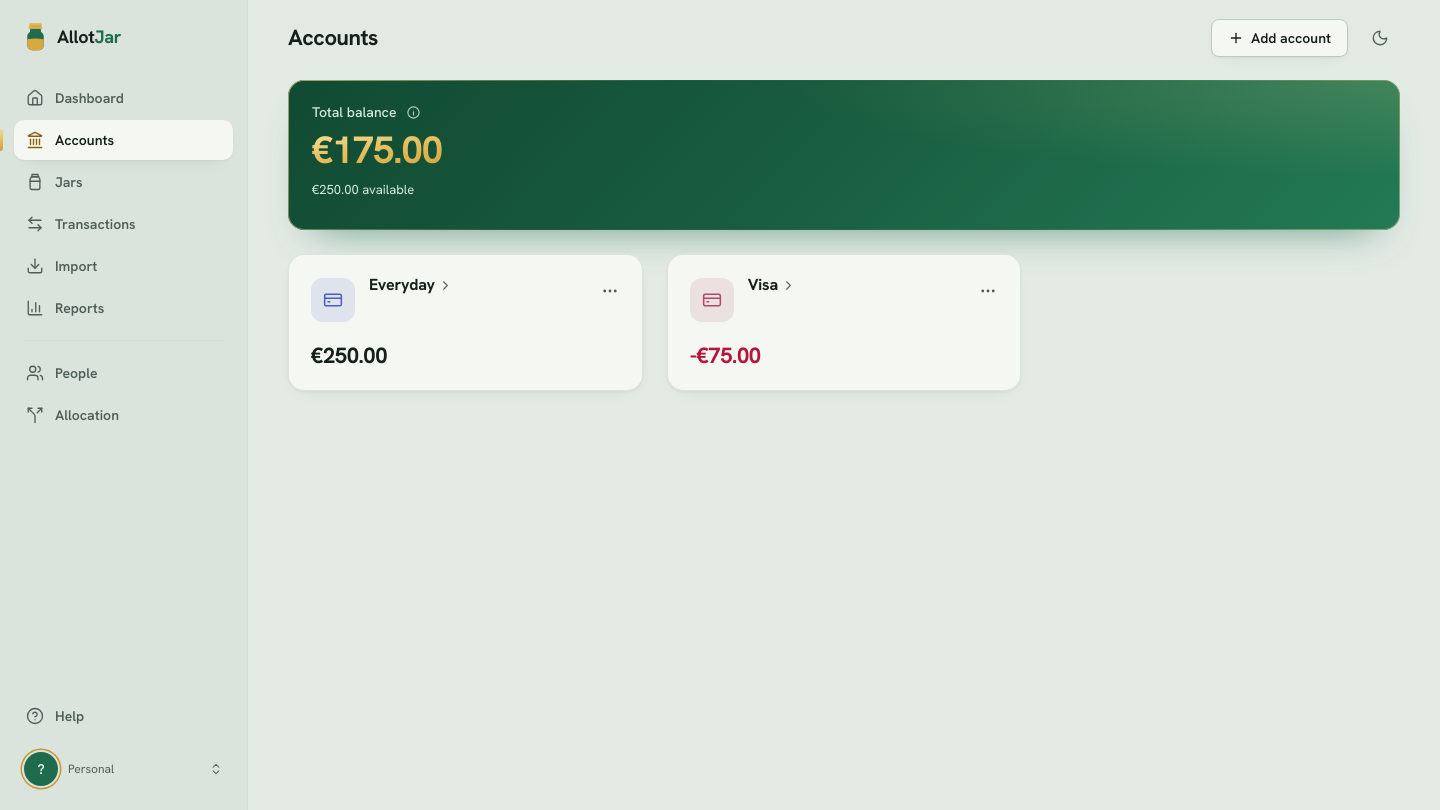
Test: AccountsPage › deletes an account after confirming
Click the button named "Everyday: more actions" at (610, 291), box [590,271,630,311]
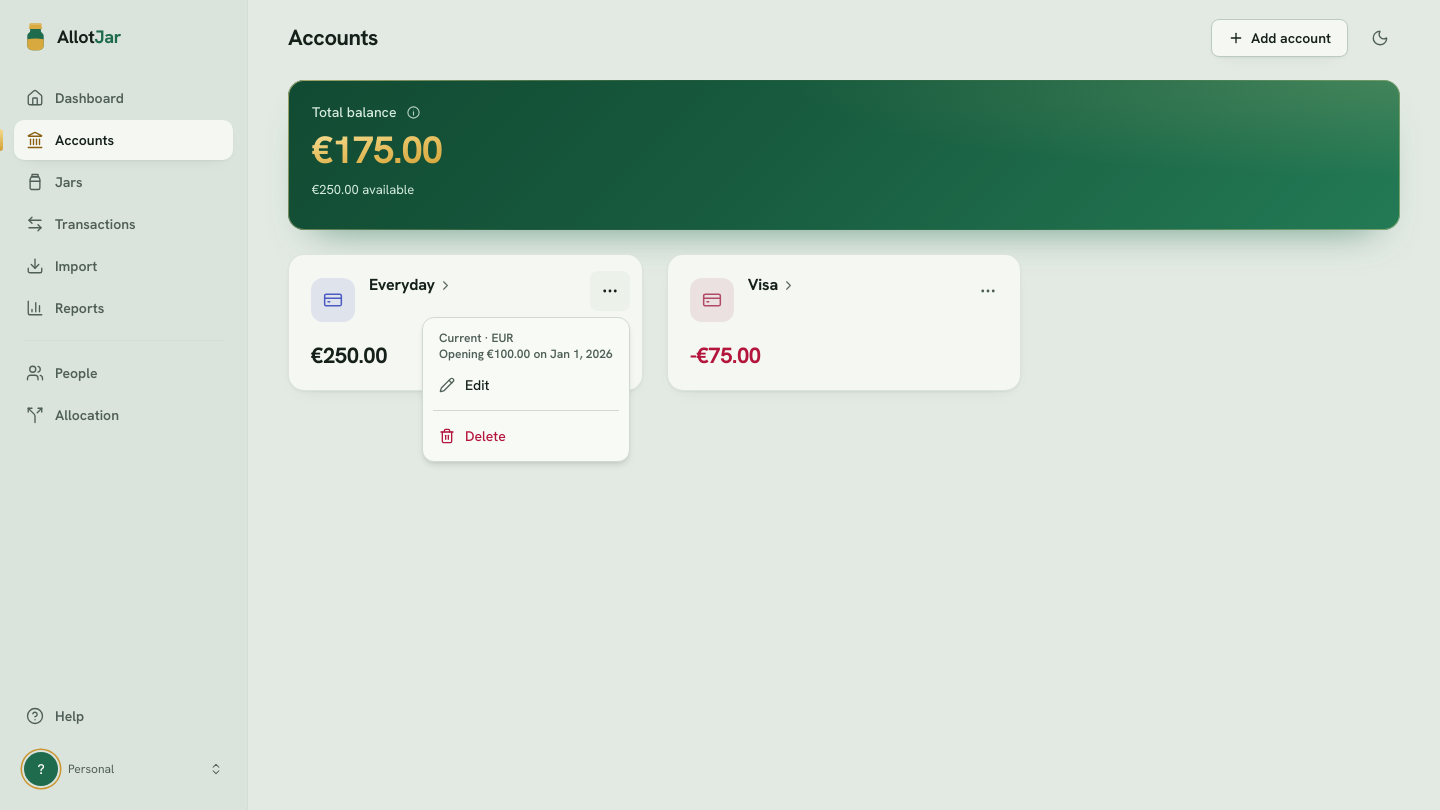
Click the menu item with aria-label "Delete Everyday" at (472, 436), box [439,427,506,445]
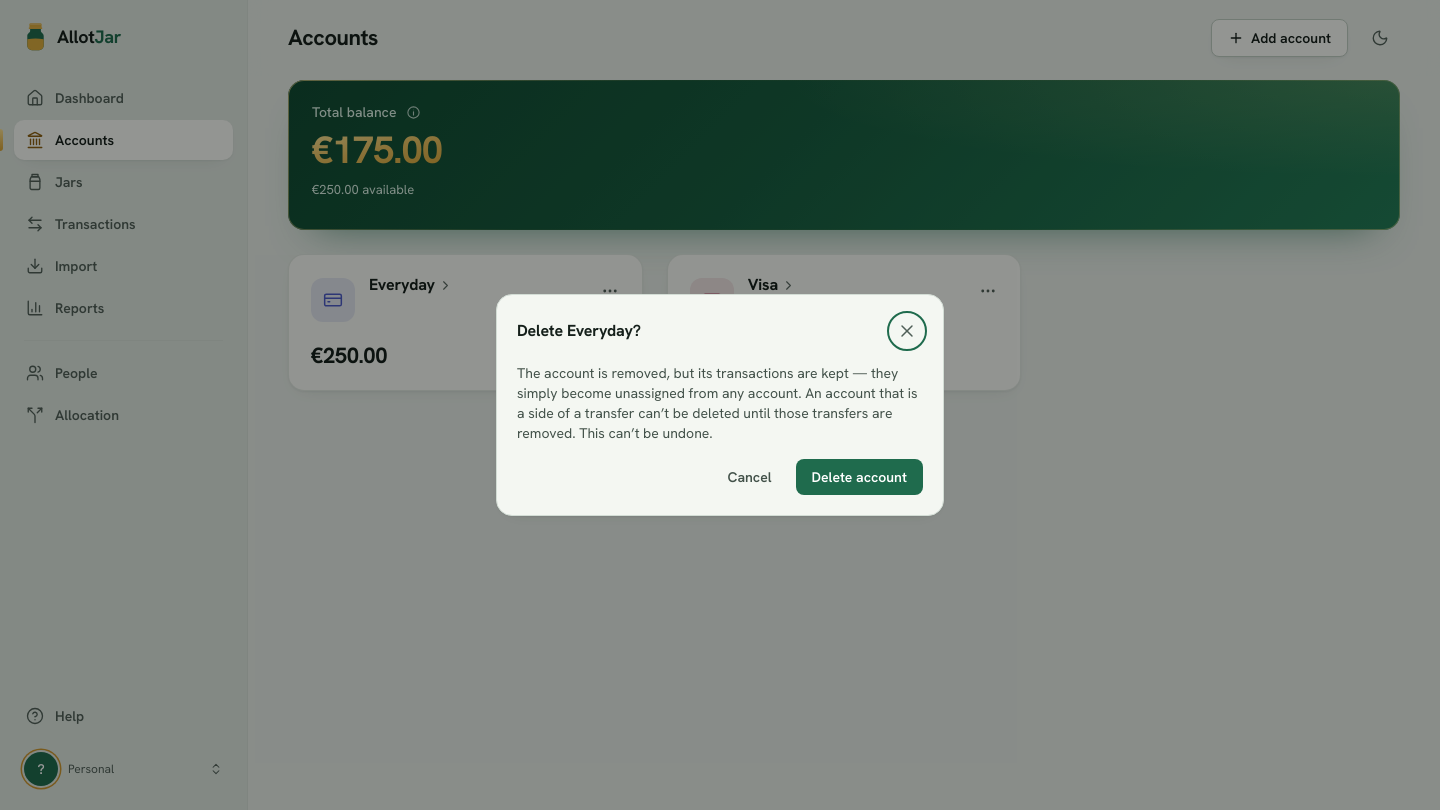
Check: the text "transactions are kept" is shown, box [517,364,918,442]
Click the button "Delete account" at (859, 477), box [796,459,923,495]
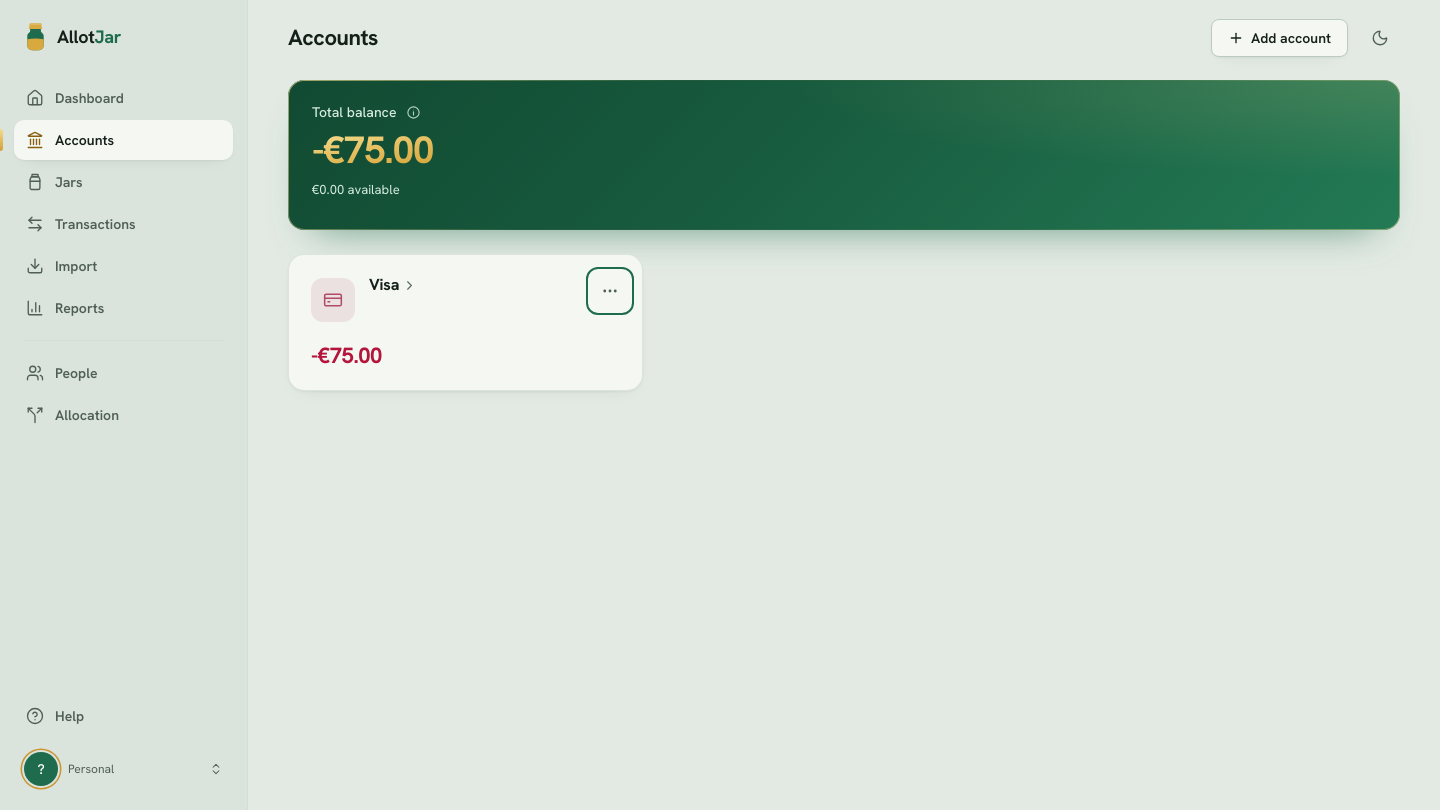
Check: the link "Everyday" is gone
